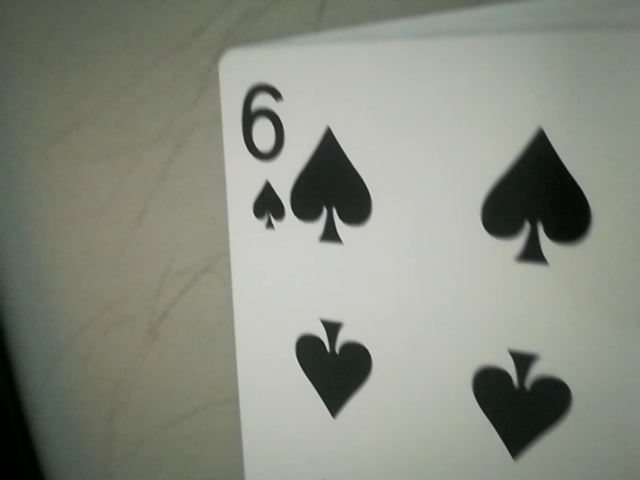ht 6: (230, 63, 303, 245)
